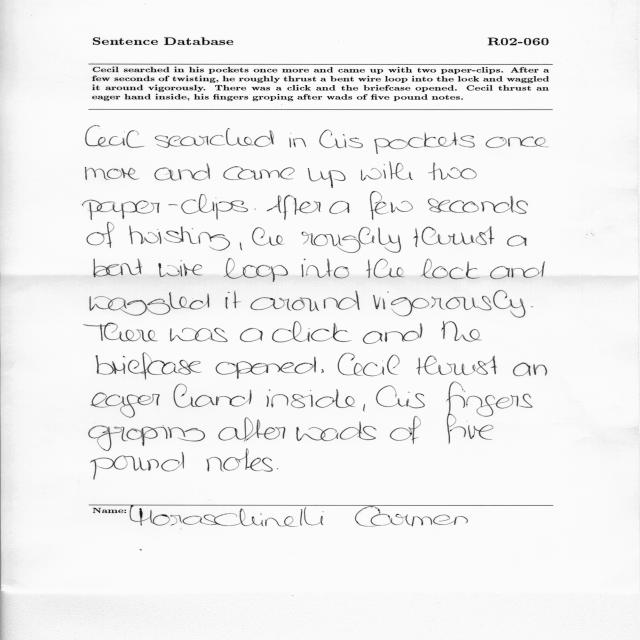word: (446, 382, 532, 444), (82, 194, 248, 220), (373, 290, 525, 318), (89, 426, 205, 452), (96, 353, 202, 380), (90, 292, 209, 316), (129, 225, 230, 251), (91, 452, 184, 480), (302, 227, 401, 253), (155, 128, 274, 148), (251, 291, 360, 312), (374, 132, 475, 154), (216, 357, 316, 379), (174, 384, 252, 408), (428, 196, 528, 214), (91, 392, 160, 418), (414, 226, 495, 247), (266, 389, 355, 408), (219, 417, 286, 442), (272, 322, 351, 343), (297, 422, 377, 442), (206, 449, 273, 472), (416, 356, 497, 375), (224, 258, 288, 282), (338, 353, 400, 376), (84, 323, 158, 342), (86, 125, 145, 148), (267, 195, 321, 220), (420, 259, 480, 280), (363, 323, 423, 344), (370, 191, 413, 220), (376, 386, 425, 409), (223, 166, 295, 180), (490, 261, 545, 279), (361, 162, 413, 181), (154, 164, 210, 181), (94, 259, 142, 278), (301, 259, 349, 278), (390, 416, 421, 444), (441, 321, 482, 342), (428, 163, 477, 180), (170, 328, 228, 342), (319, 130, 363, 148), (308, 168, 346, 188), (366, 258, 404, 278), (158, 260, 202, 277), (86, 167, 140, 180), (87, 222, 114, 248), (486, 137, 548, 148), (252, 227, 285, 246), (513, 363, 547, 376), (468, 425, 493, 440), (240, 328, 263, 342), (226, 291, 241, 309), (330, 201, 350, 214), (507, 235, 526, 246), (289, 138, 306, 148), (240, 243, 242, 251), (363, 404, 365, 411), (321, 369, 324, 373), (255, 208, 256, 210), (531, 306, 533, 307), (277, 468, 278, 469)
